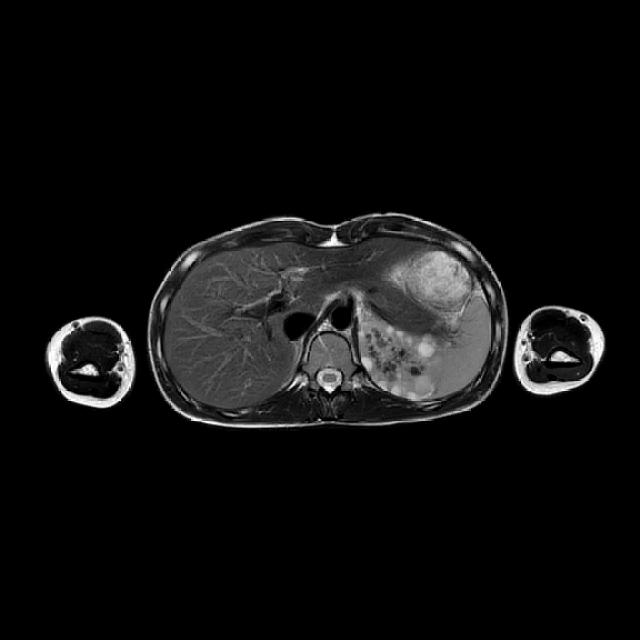sol: (362, 322, 436, 398)
